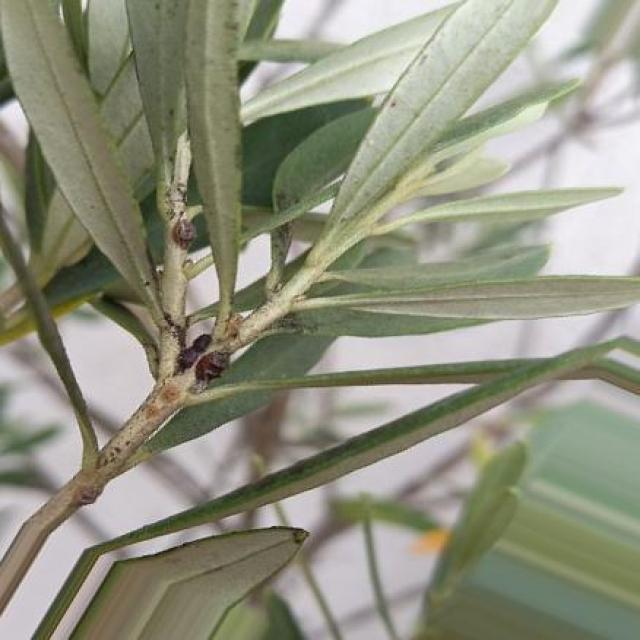BlackScale: (176, 333, 210, 372), (196, 351, 227, 382), (174, 218, 196, 250)
